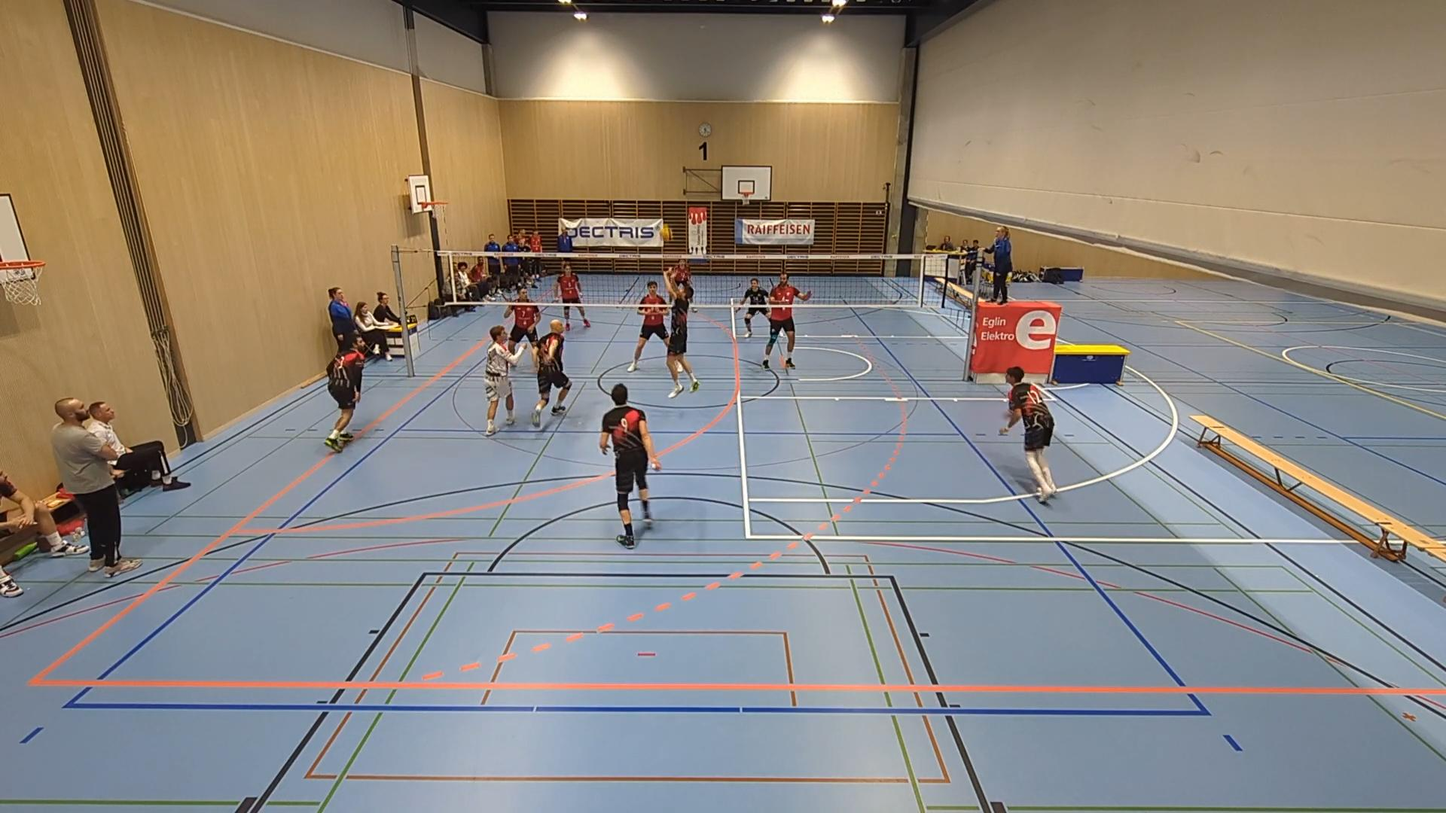Player: (599, 385, 660, 549), (1000, 366, 1057, 502), (324, 335, 366, 451), (762, 272, 810, 368), (484, 325, 523, 435), (532, 319, 569, 425), (627, 281, 668, 371), (554, 260, 590, 329), (503, 287, 539, 352), (743, 278, 767, 337), (670, 260, 691, 285)
Set: (656, 259, 696, 397)
ball: (658, 221, 672, 237)
